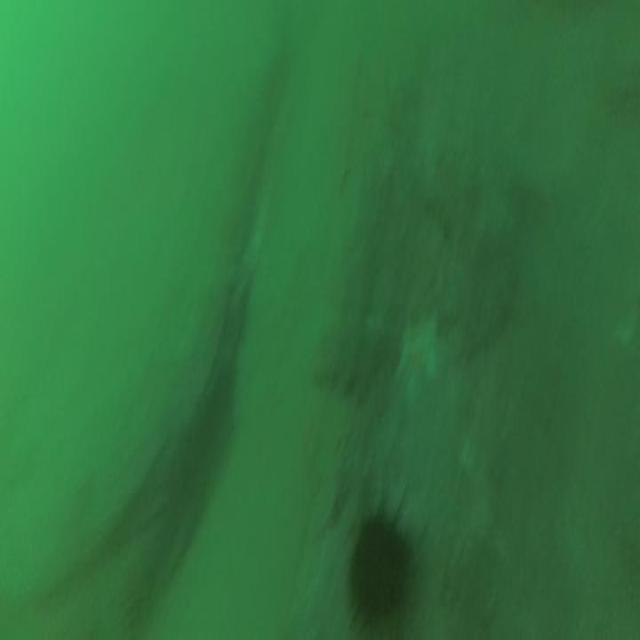echinus: (332, 464, 434, 640)
starfish: (396, 308, 447, 414)
